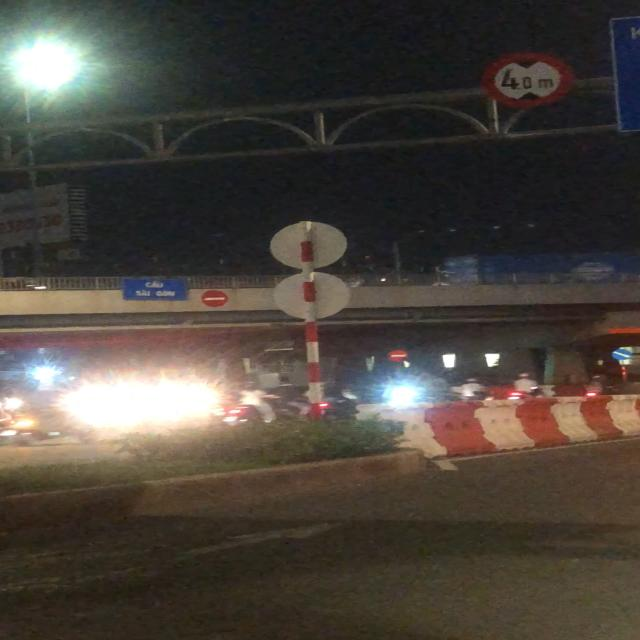Bien bao cam di nguoc chieu: (200, 288, 229, 308), (385, 348, 411, 362)
Bien bao huong phai di vong chuong ngai vat: (610, 347, 635, 362)
